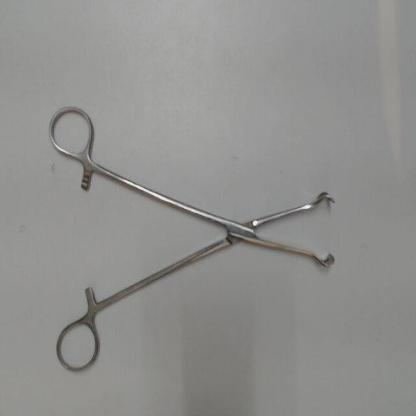8 Babcock Tissue Forceps: (44, 97, 339, 379)
